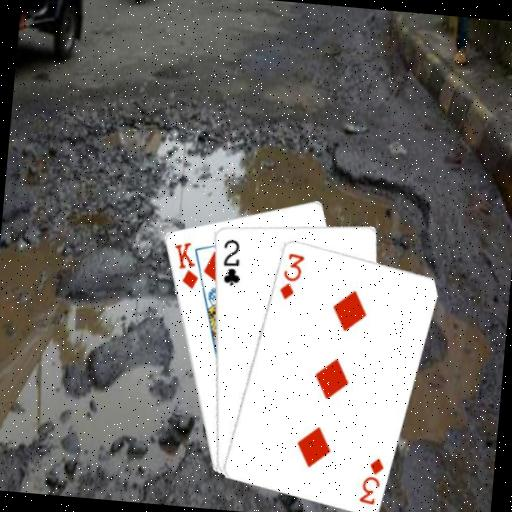2C: (217, 236, 245, 288)
3D: (276, 248, 307, 302), (356, 453, 386, 507)
KD: (168, 238, 203, 292)
